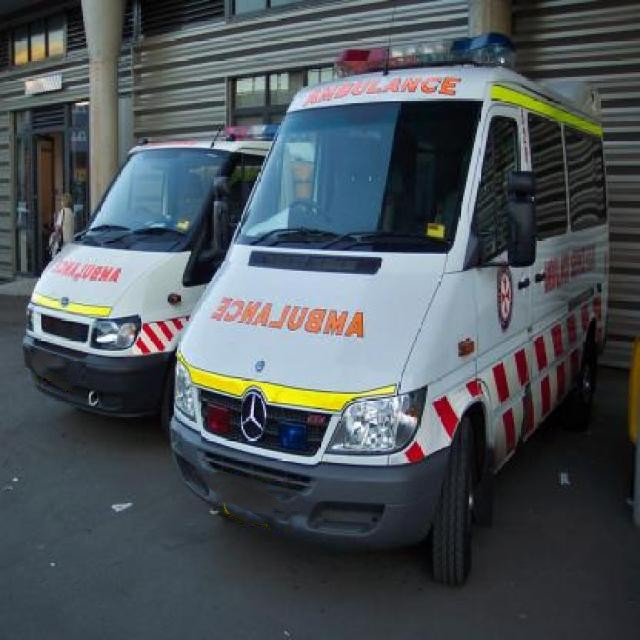car: (169, 76, 611, 587), (19, 122, 271, 423)
